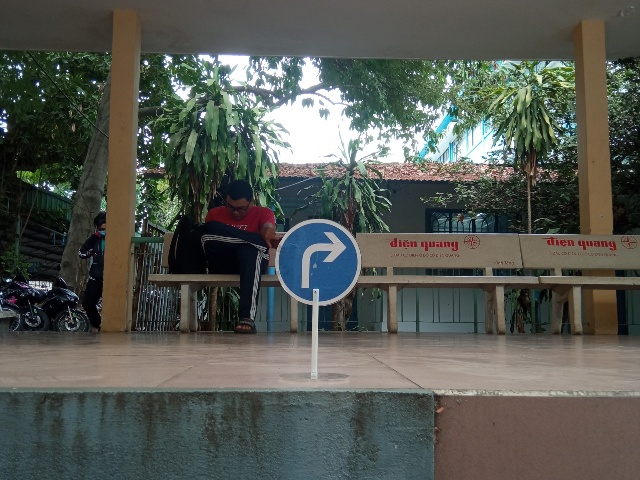Right_Sign: (274, 219, 362, 305)
